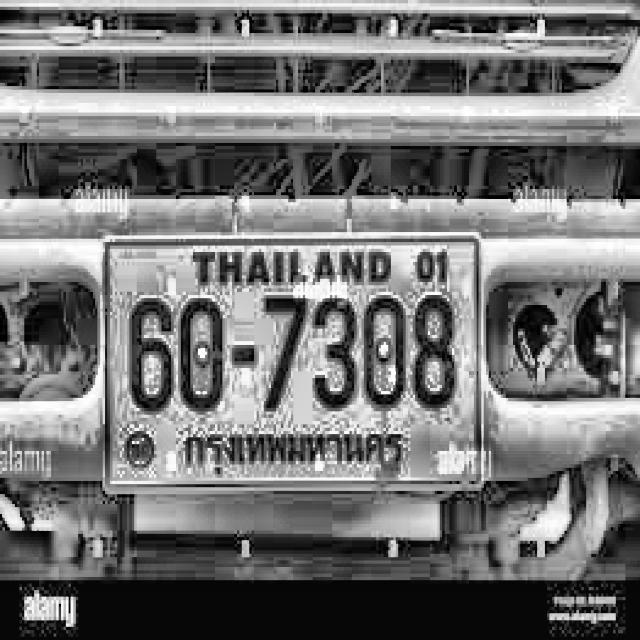license-plate: (98, 229, 488, 498)
